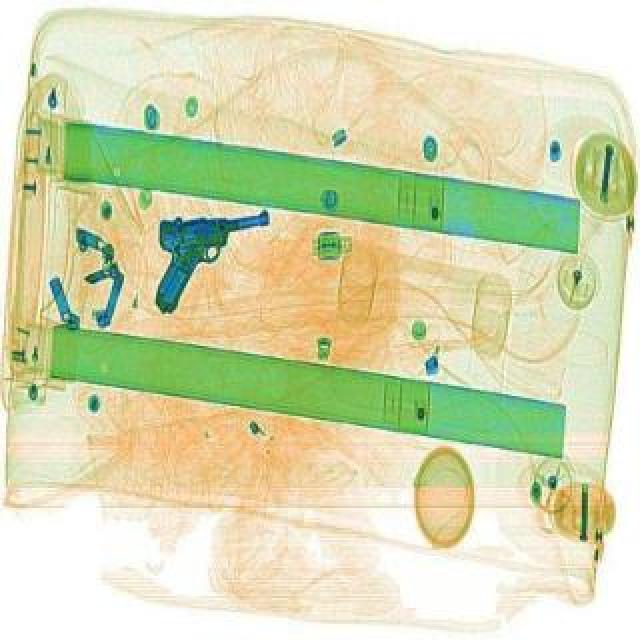gun: (130, 186, 290, 314)
